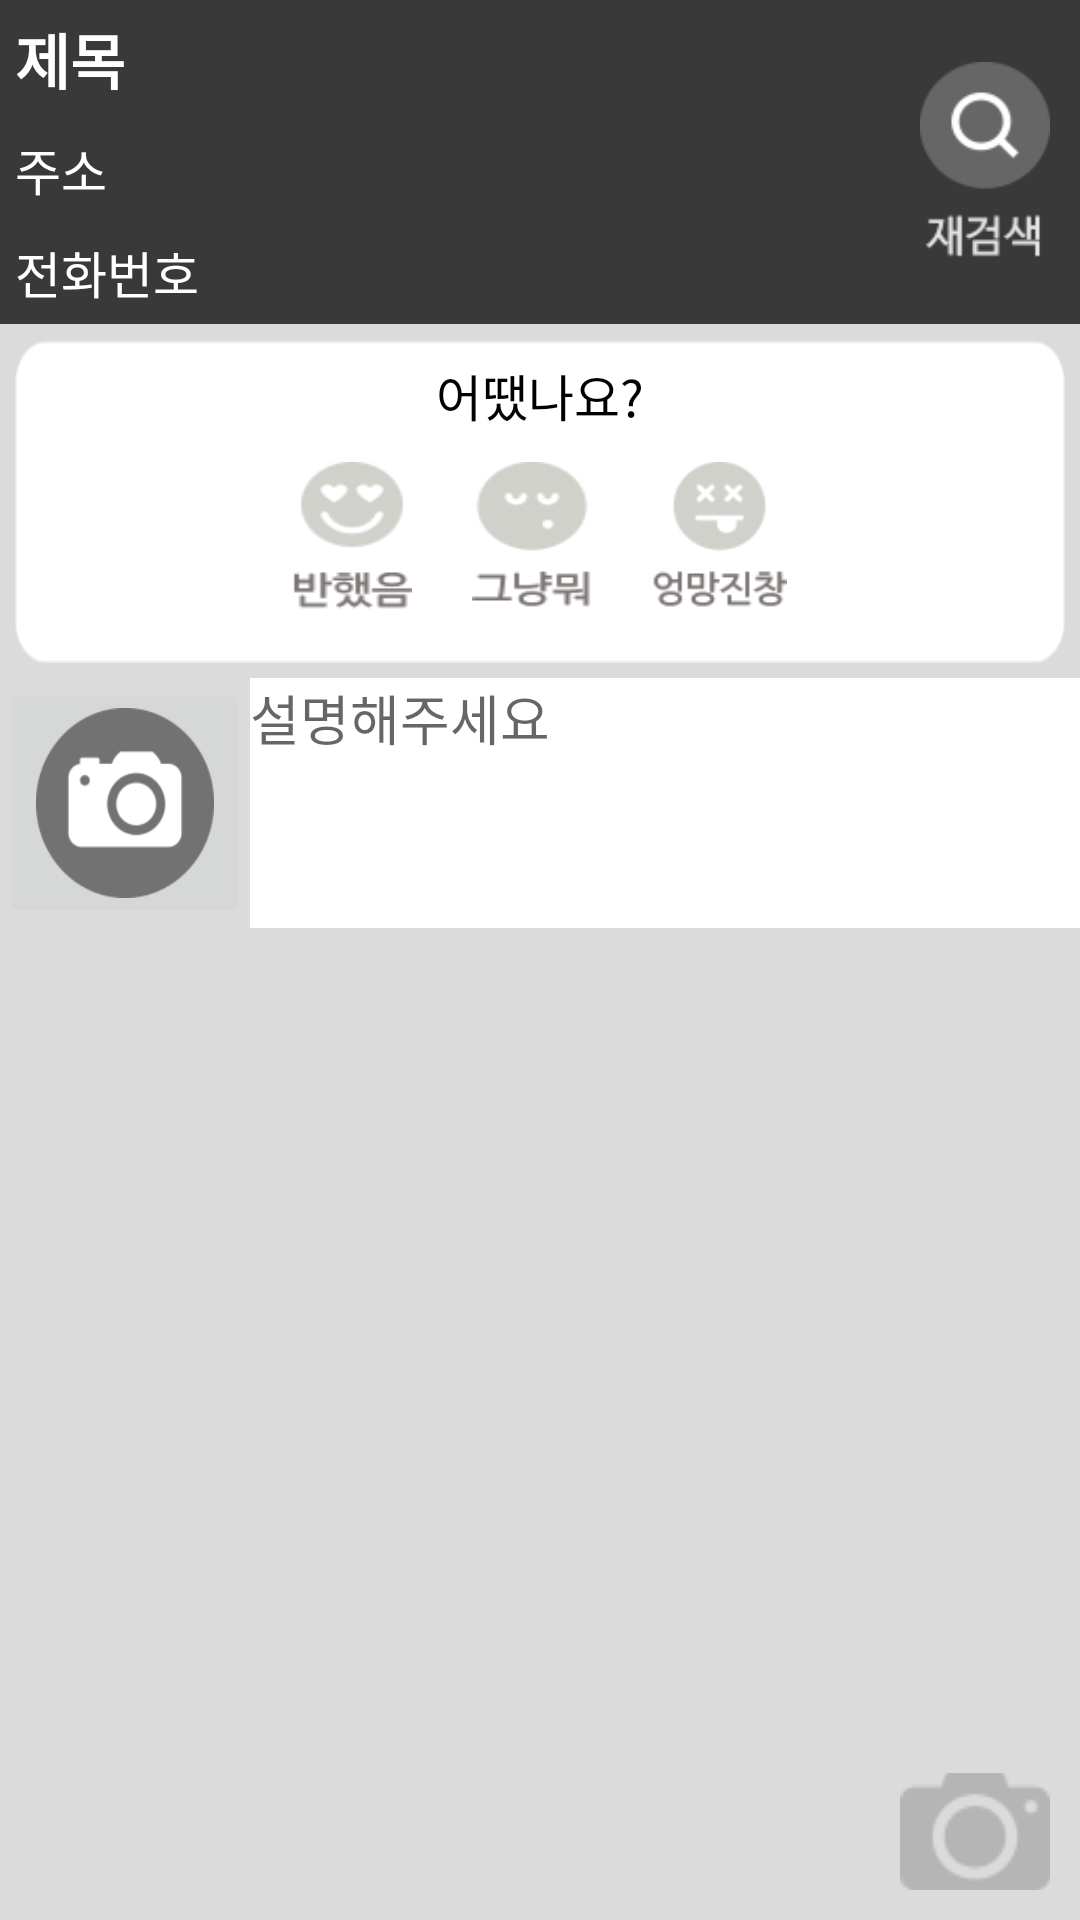

Locate icon controls on the screen. Image size 1080×1920, boxes as bbox(x1, y1, x2, y2).
upload add: bbox(900, 1773, 1050, 1890)
upload camera: bbox(36, 708, 214, 898)
